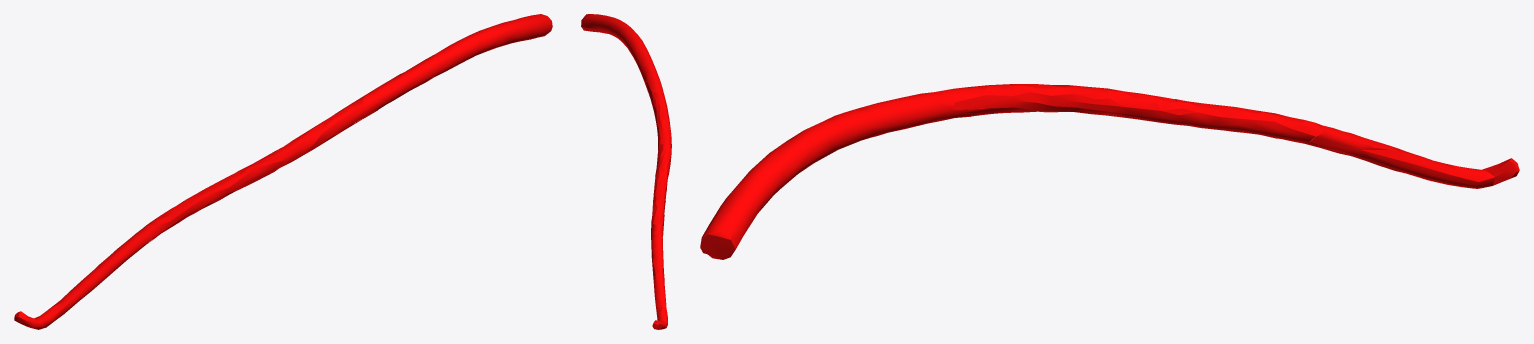
File: Modified_Stent_Artery.fbx
3 views of the same model, side by side, from view 1: azimuth 90°, elevation 25°; view 2: azimuth 150°, elevation 25°; view 3: azimuth 270°, elevation 25° (orthographic). The views are drawn at different scales.
Parts seen in each view (by area): view 1: Stent_Artery2_new, Plaque Part, Delete Part; view 2: Stent_Artery2_new, Plaque Part, Delete Part; view 3: Stent_Artery2_new, Delete Part, Plaque Part.
Boxes of the visible parts, x1,y1,x2,y2 form: Stent_Artery2_new: (14,14,552,329); Plaque Part: (146,95,364,225); Delete Part: (148,110,377,243); Stent_Artery2_new: (581,14,671,329); Plaque Part: (651,92,671,234); Delete Part: (646,82,666,236); Stent_Artery2_new: (700,84,1519,259); Delete Part: (953,92,1339,150); Plaque Part: (984,84,1323,136).
Bounding box in the file's own units: 30.18 × 13.44 × 39.04.
